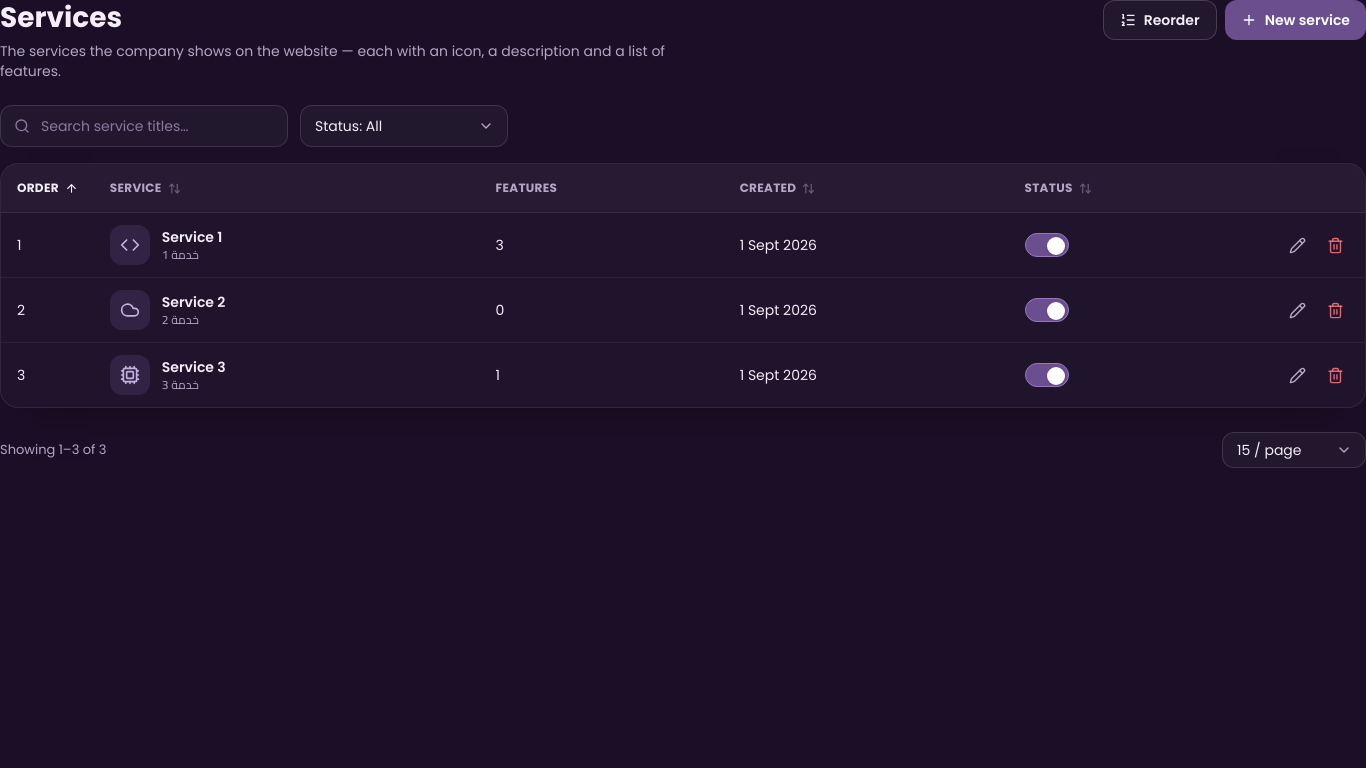
ServiceList › delete › shows an error toast when the delete fails
The image size is (1366, 768).
Expected: the text "Service 2" is shown, [162,292,225,312]
Click the button named "Delete" in the row of "Service 2".
click(1335, 310)  # box [1317,292,1353,328]
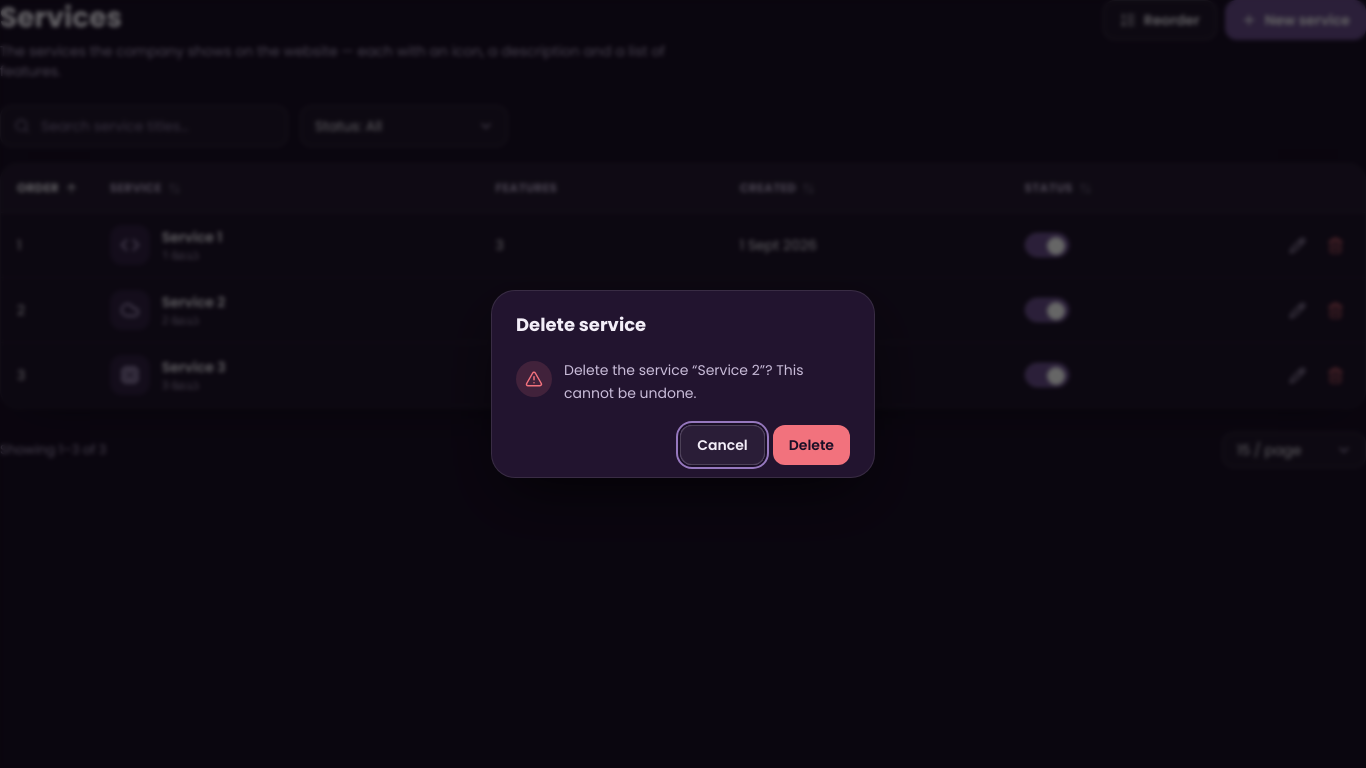
Click the button "Delete".
click(811, 445)  # box [773,425,850,465]
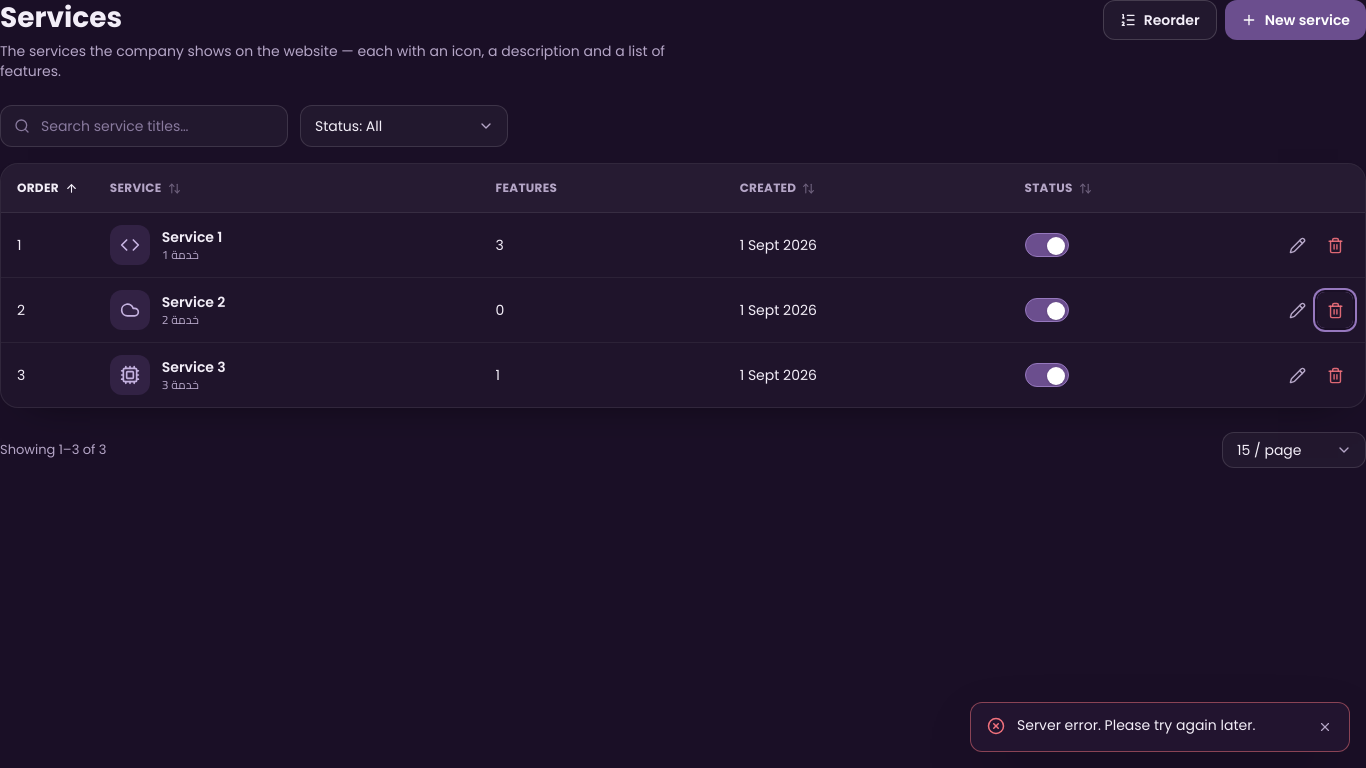
Expected: the text "Server error. Please try again later." is shown, [1017,715,1255,735]
